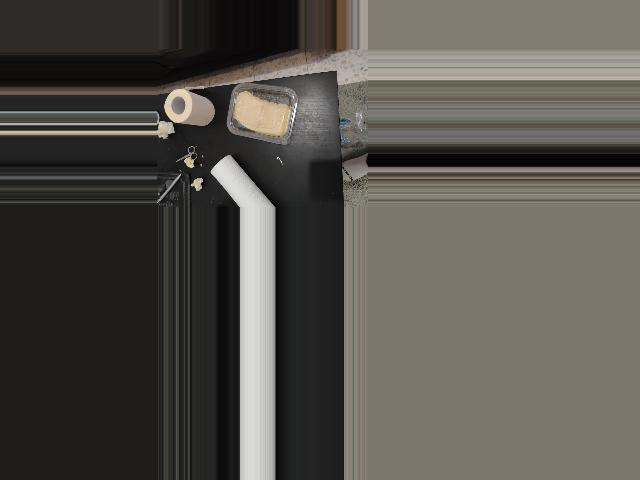cheese: (226, 87, 298, 142)
